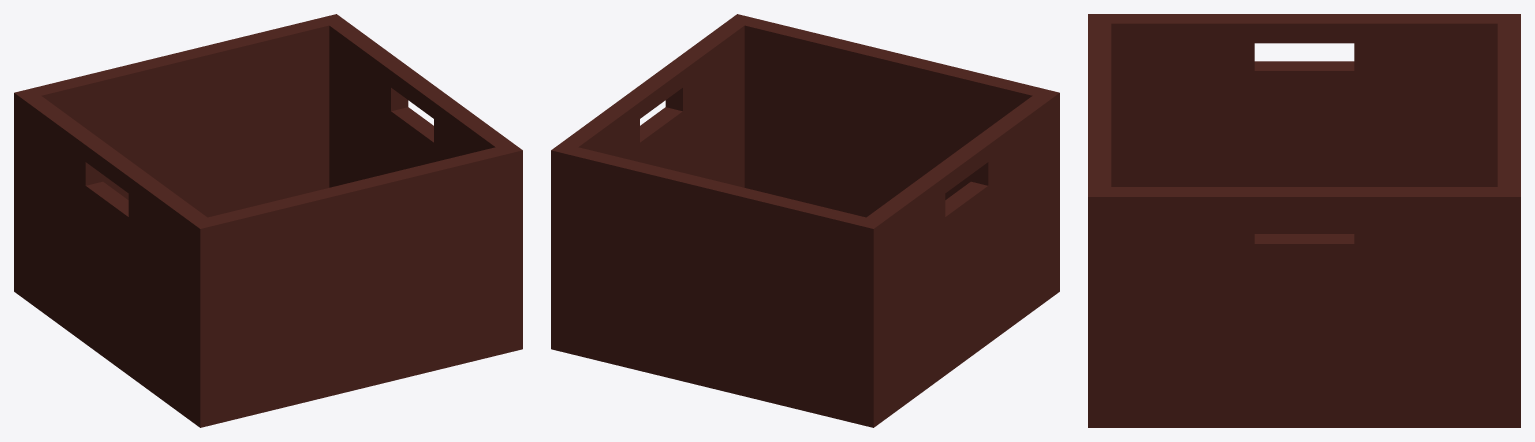
The picture shows the model from 3 angles, left to right: view 1: azimuth 30°, elevation 25°; view 2: azimuth 150°, elevation 25°; view 3: azimuth 270°, elevation 25°; orthographic projection. The views are drawn at different scales.
Parts seen in each view (by area): view 1: Box_1; view 2: Box_1; view 3: Box_1.
Part boxes in pixels (bbox=[...]): Box_1: bbox=[14, 14, 522, 427]; Box_1: bbox=[551, 14, 1059, 427]; Box_1: bbox=[1088, 14, 1520, 427].
Size of the model in its own units: 0.7418 by 0.4371 by 0.7418.
1 material, 1 textured.
